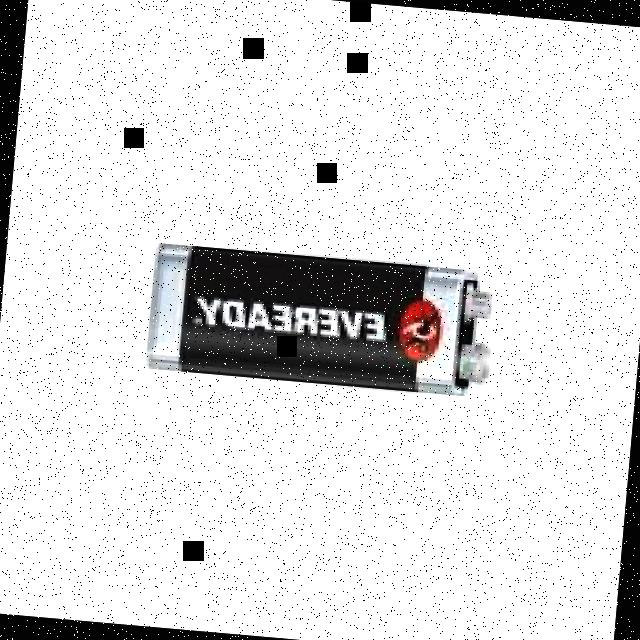battery: (144, 243, 492, 396)
